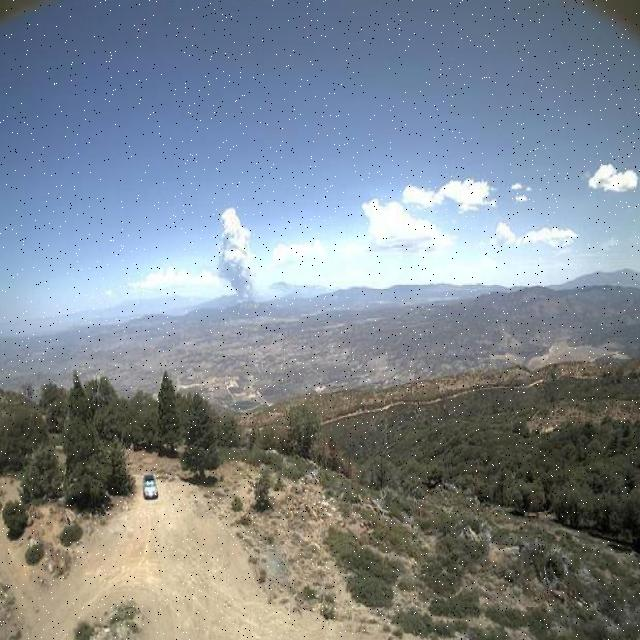smoke: (213, 200, 264, 311)
